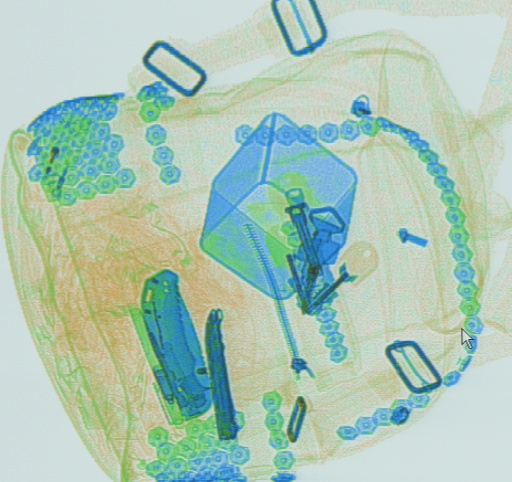knife: (138, 268, 216, 421), (203, 308, 242, 443)
lighter: (31, 104, 84, 202)
